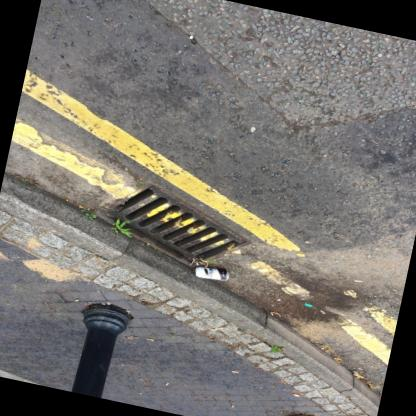Metal: (194, 265, 227, 279)
Paper: (214, 325, 222, 328), (164, 381, 168, 384), (149, 337, 153, 340), (269, 310, 272, 314), (230, 403, 233, 406), (353, 279, 362, 280), (231, 370, 238, 371)
